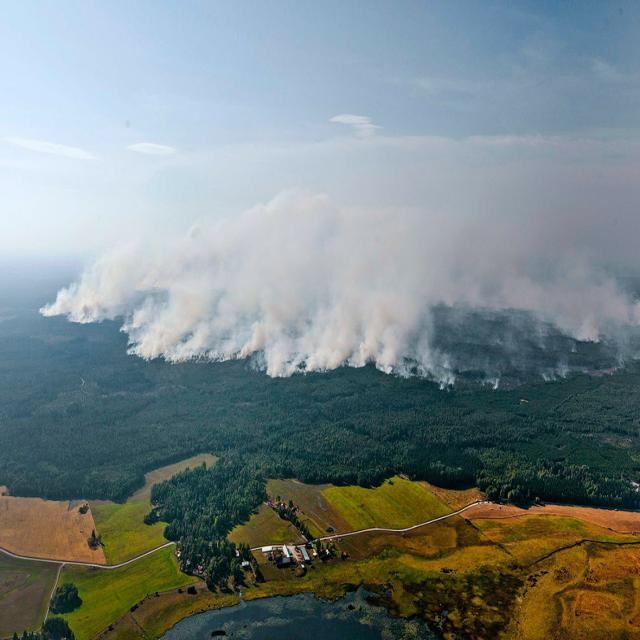Smoke: (43, 191, 640, 380)
